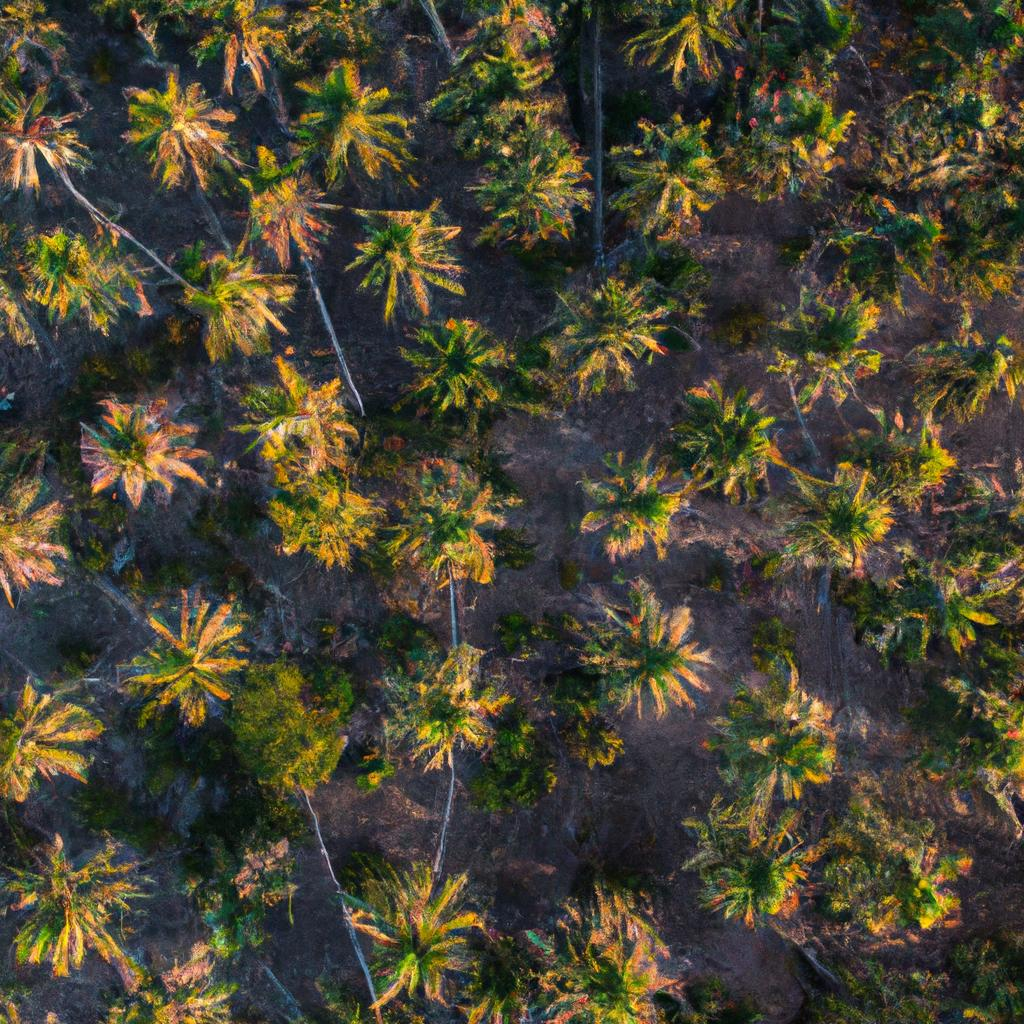coconut_tree: (330, 832, 495, 1013), (647, 796, 832, 932), (568, 570, 724, 726), (693, 666, 866, 796), (538, 267, 692, 401), (393, 623, 525, 774), (770, 281, 912, 420), (65, 385, 209, 520), (335, 185, 482, 316), (232, 350, 376, 483), (611, 97, 736, 250), (397, 431, 509, 601), (119, 581, 257, 718), (665, 369, 793, 505), (170, 237, 305, 361), (768, 458, 893, 578), (567, 441, 688, 560)
